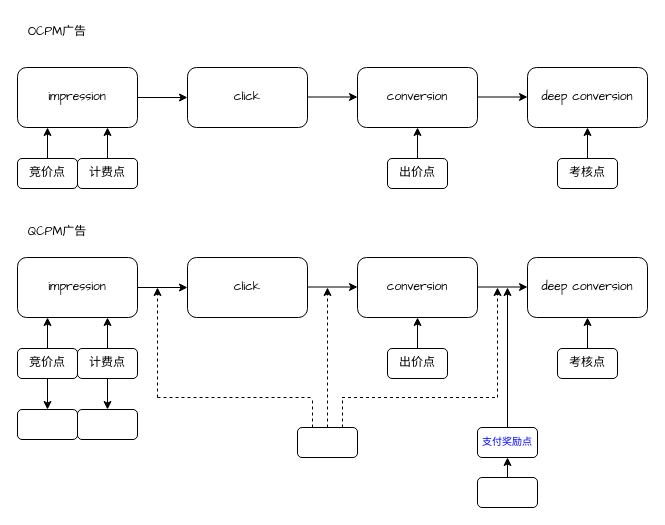
Some shapes in this 665 by 525 pixel diagram are drawn without their labels. The centre of each missing label's shape, as x and y in pixels:
加收券金: point (107, 424)
告知奖励点: point (327, 442)
支出券金: point (507, 492)
预估涨幅决策最优券金: point (47, 424)
